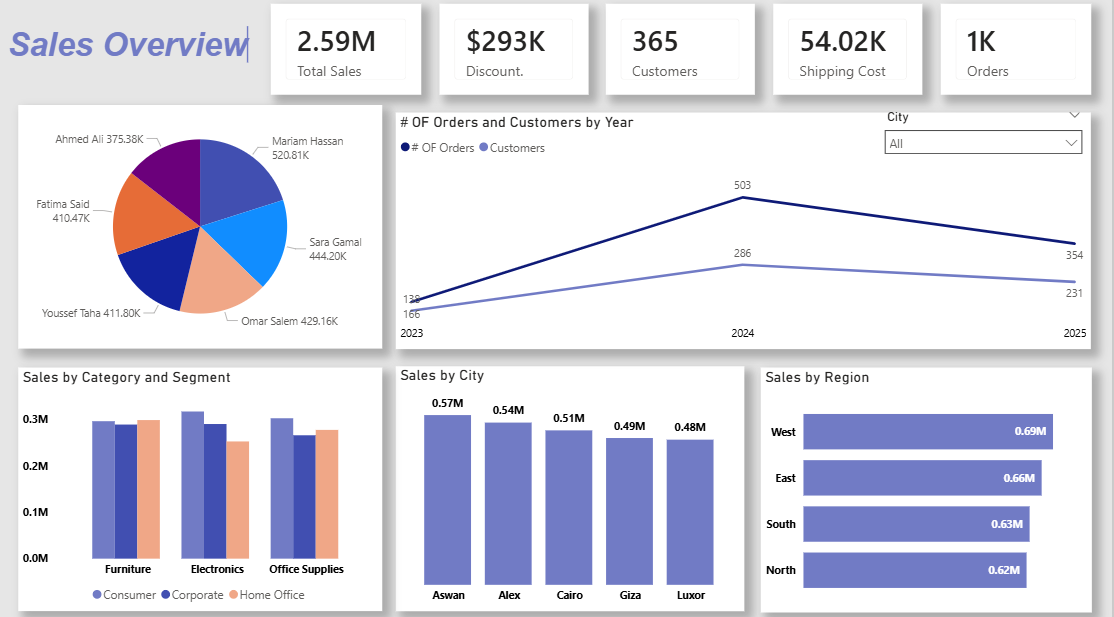

The dashboard page shown, as its layout file describes it:
{"tool":"powerbi","page":{"name":"Sales","canvas":[1280,720],"ordinal":0},"visuals":[{"type":"columnChart","title":" Sales by City","fields":{"Category":["Test (2).City"],"Y":["Sum(Test (2).Sales)"]},"box":[462,424,398,280],"z":0},{"type":"cardVisual","fields":{"Data":["Sum(Test (2).Sales)"]},"box":[318,9.6,172,104],"z":1000},{"type":"cardVisual","fields":{"Data":["Test (2).Customers"]},"box":[702,9.6,170,104],"z":2000},{"type":"clusteredColumnChart","title":" Sales by Category and Segment","fields":{"Y":["Sum(Test (2).Sales)"],"Category":["Test (2).Category"],"Series":["Test (2).Segment"]},"box":[30,426,416,278],"z":3000},{"type":"cardVisual","fields":{"Data":["Sum(Test (2).ShippingCost)"]},"box":[893,9.6,170,104],"z":4000},{"type":"cardVisual","fields":{"Data":["Test (2).Orders"]},"box":[1084,9.6,172,104],"z":5000},{"type":"barChart","title":" Sales by Region","fields":{"Y":["Sum(Test (2).Sales)"],"Category":["Test (2).Region"]},"box":[878,426,378,280],"z":6000},{"type":"cardVisual","fields":{"Data":["Test.Discount."]},"box":[511,9.6,170,104],"z":7000},{"type":"pieChart","fields":{"Category":["Test.Salesperson"],"Y":["Sum(Test.Sales)"]},"box":[30,126,416,278],"z":8000},{"type":"lineChart","fields":{"Category":["Test.OrderDate.Variation.Date Hierarchy.Year","Test.OrderDate.Variation.Date Hierarchy.Quarter","Test.OrderDate.Variation.Date Hierarchy.Month","Test.OrderDate.Variation.Date Hierarchy.Day"],"Y":["CountNonNull(Test.CustomerID)","Test.Customers"]},"box":[462,134,794,270],"z":9000},{"type":"slicer","fields":{"Values":["Test (2).City"]},"box":[1010,126,246,70],"z":10000},{"type":"textbox","box":[13.3,30,305,65],"z":11000}]}

Visuals, with their boxes in screenshot pixels (x1, y1, x2, y2), scaled from the page's 1280x720 canvas onto the 1114x617 screenshot:
" Sales by City" columnChart: bbox=(402, 363, 748, 603)
cardVisual - Sum(Test (2).Sales): bbox=(277, 8, 426, 97)
cardVisual - Test (2).Customers: bbox=(611, 8, 759, 97)
" Sales by Category and Segment" clusteredColumnChart: bbox=(26, 365, 388, 603)
cardVisual - Sum(Test (2).ShippingCost): bbox=(777, 8, 925, 97)
cardVisual - Test (2).Orders: bbox=(943, 8, 1093, 97)
" Sales by Region" barChart: bbox=(764, 365, 1093, 605)
cardVisual - Test.Discount.: bbox=(445, 8, 593, 97)
pieChart - Test.Salesperson x Sum(Test.Sales): bbox=(26, 108, 388, 346)
lineChart - Test.OrderDate.Variation.Date Hierarchy.Year x Test.OrderDate.Variation.Date Hierarchy.Quarter: bbox=(402, 115, 1093, 346)
slicer - Test (2).City: bbox=(879, 108, 1093, 168)
textbox: bbox=(12, 26, 277, 81)
